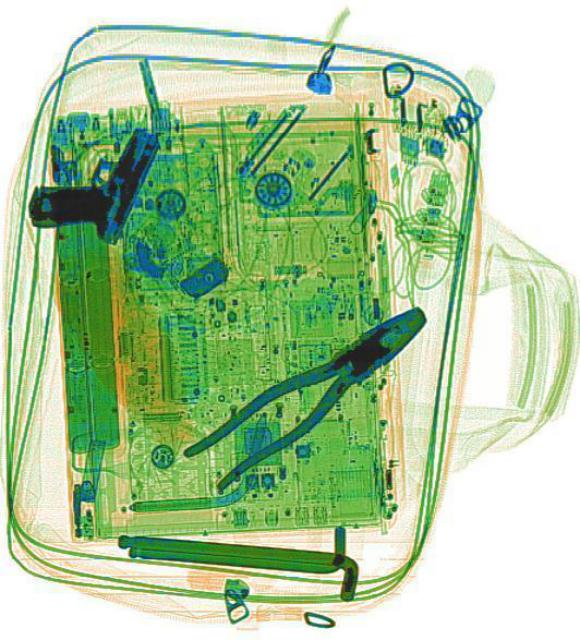Gun: (16, 94, 167, 262)
Pliers: (175, 288, 440, 497)
